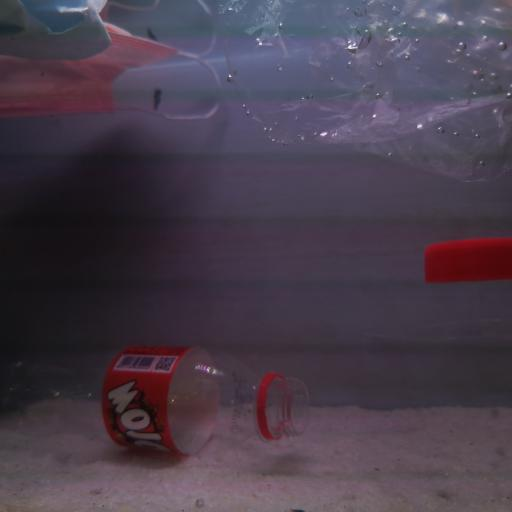bottle_cap: (418, 233, 512, 288)
mask: (0, 28, 226, 124), (3, 1, 112, 62)
plastic_bag: (213, 2, 512, 183)
plastic_bottle: (2, 343, 301, 461)
